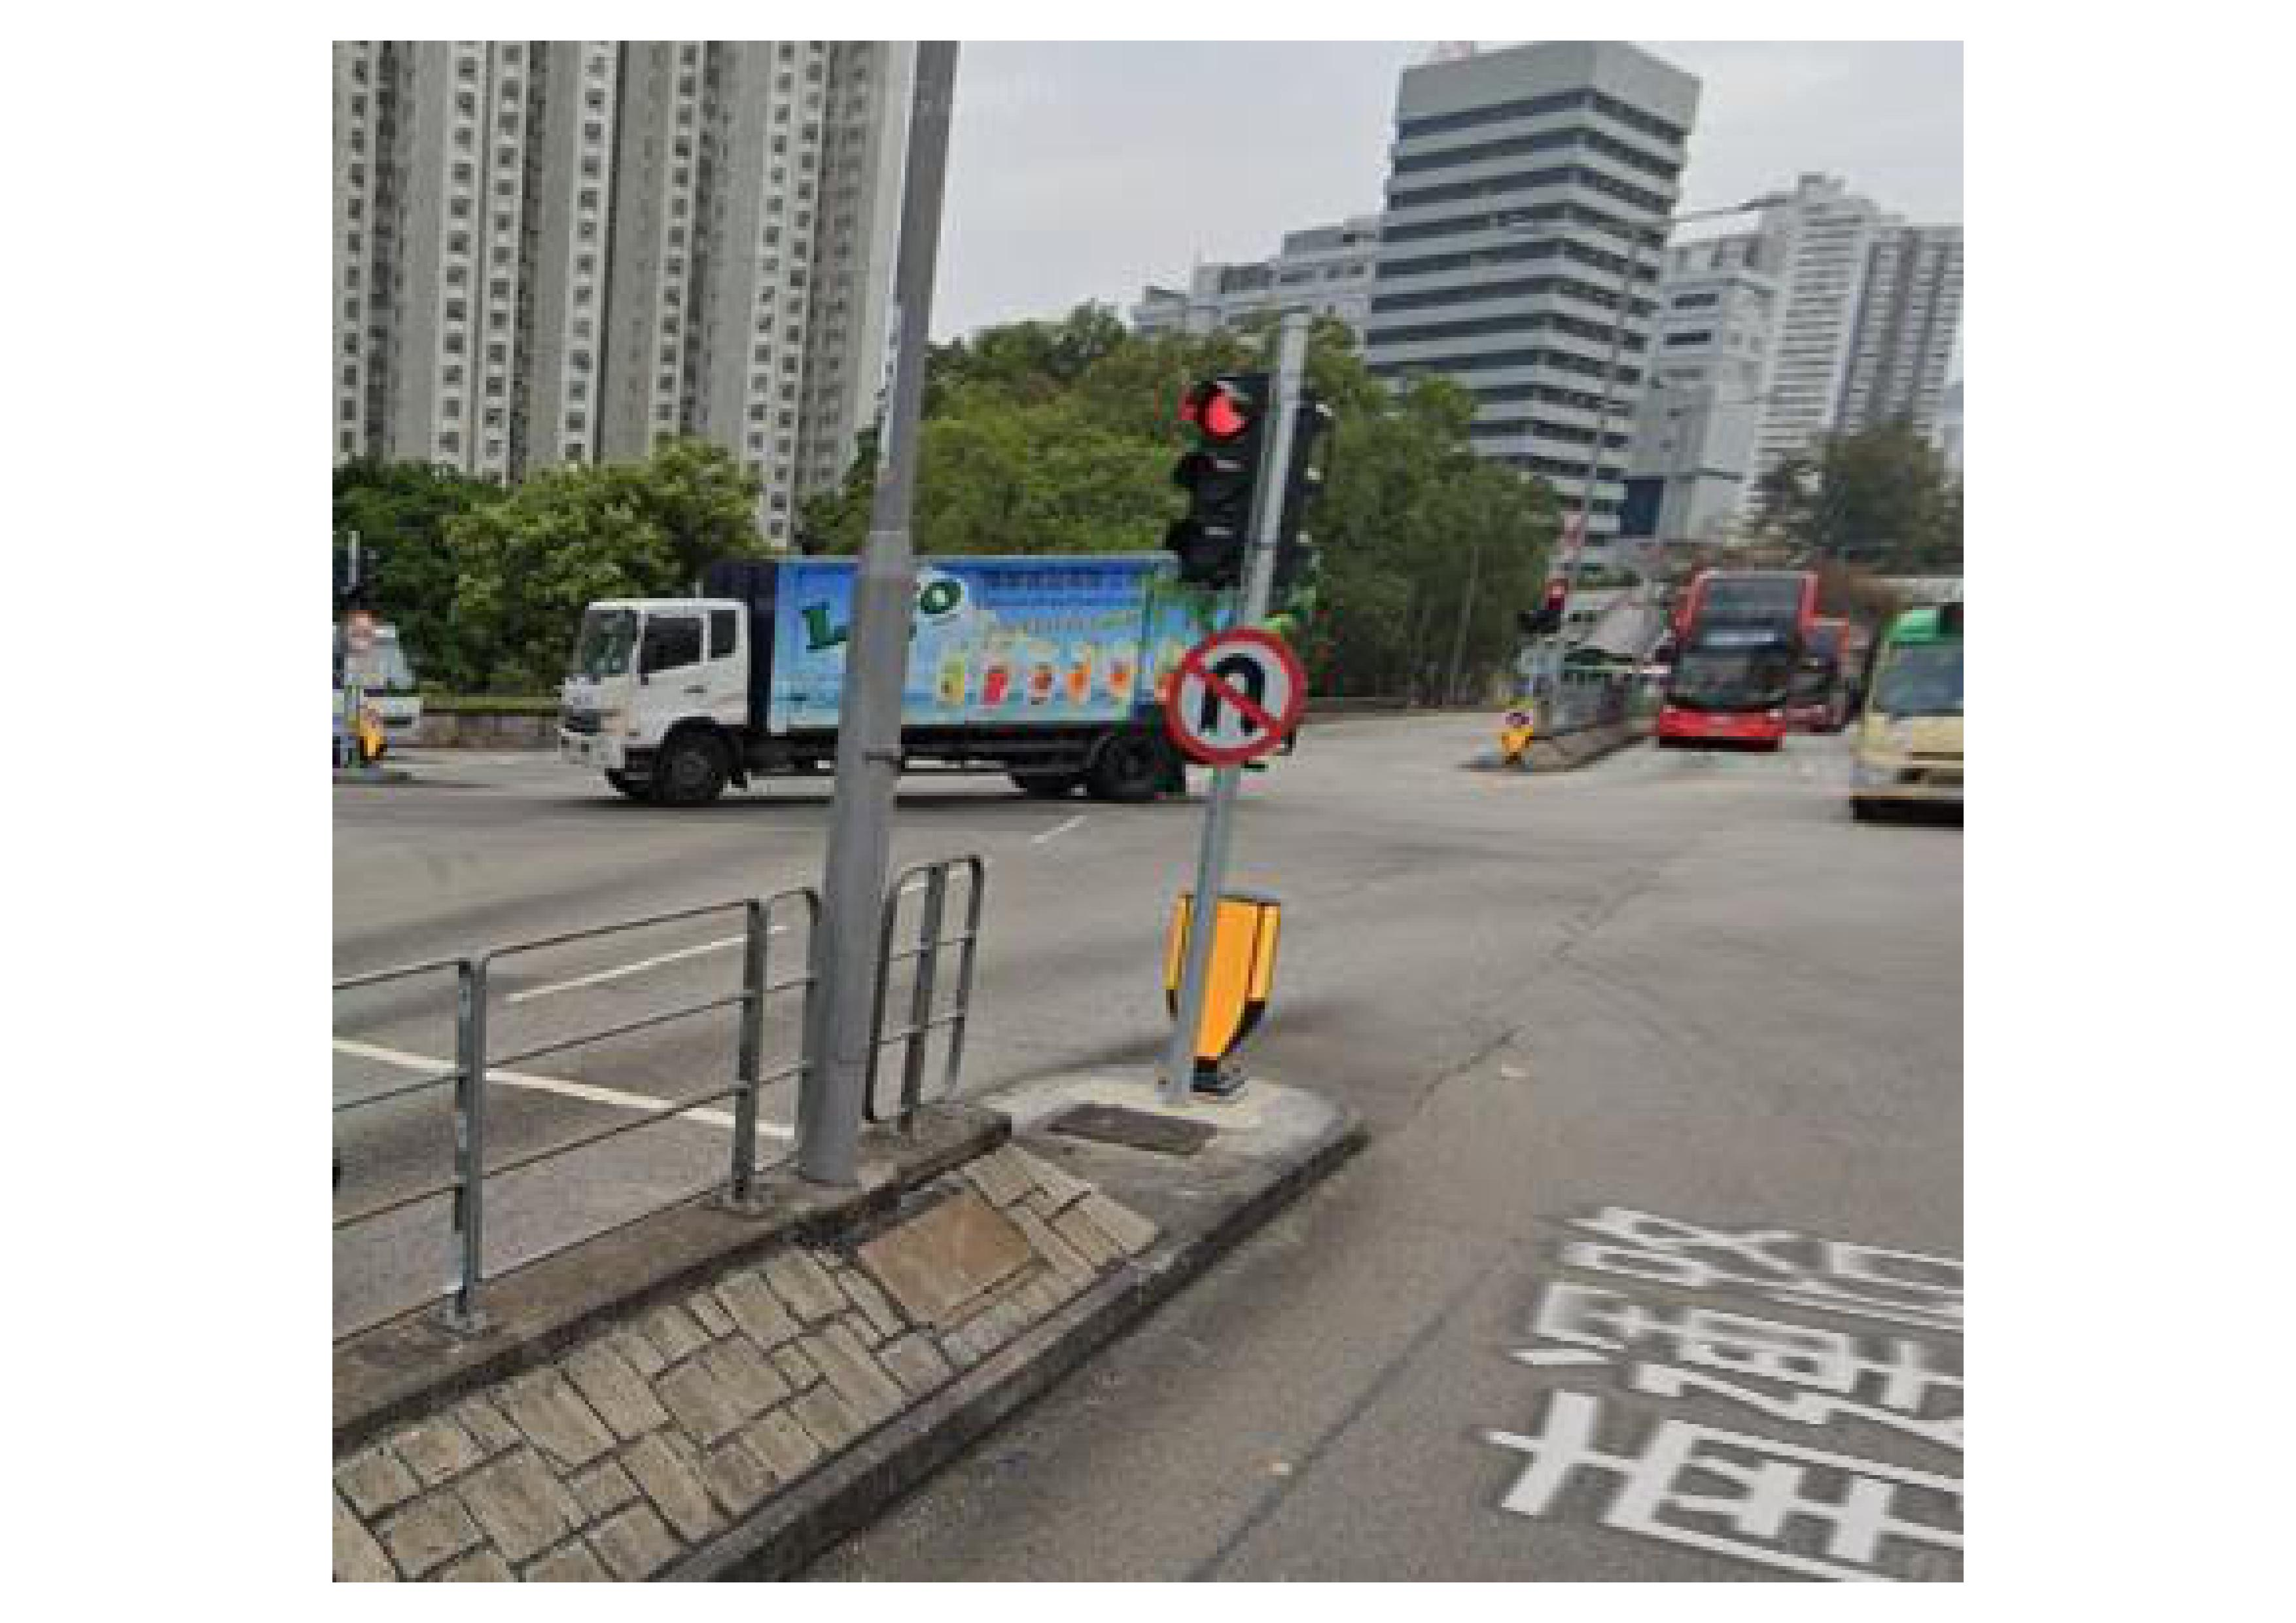No Uturn: (1155, 632, 1311, 757)
